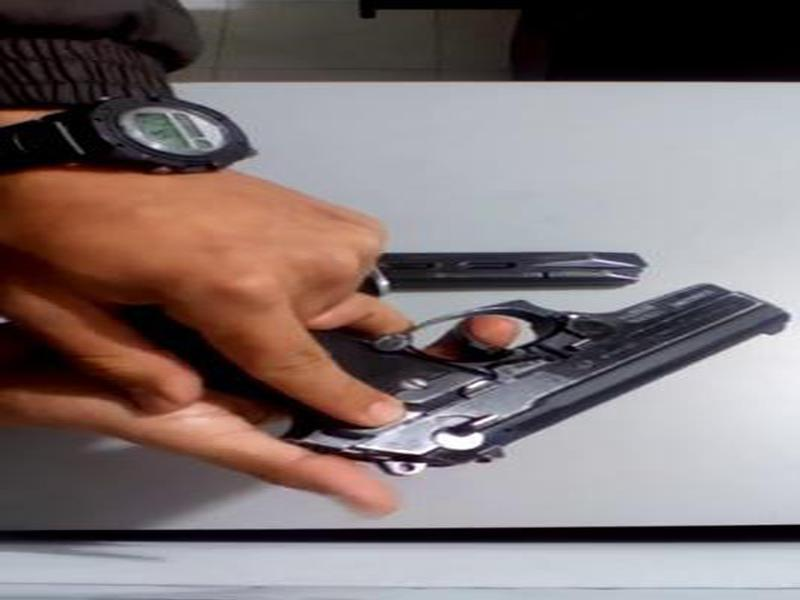Pistola: (202, 268, 795, 483)
